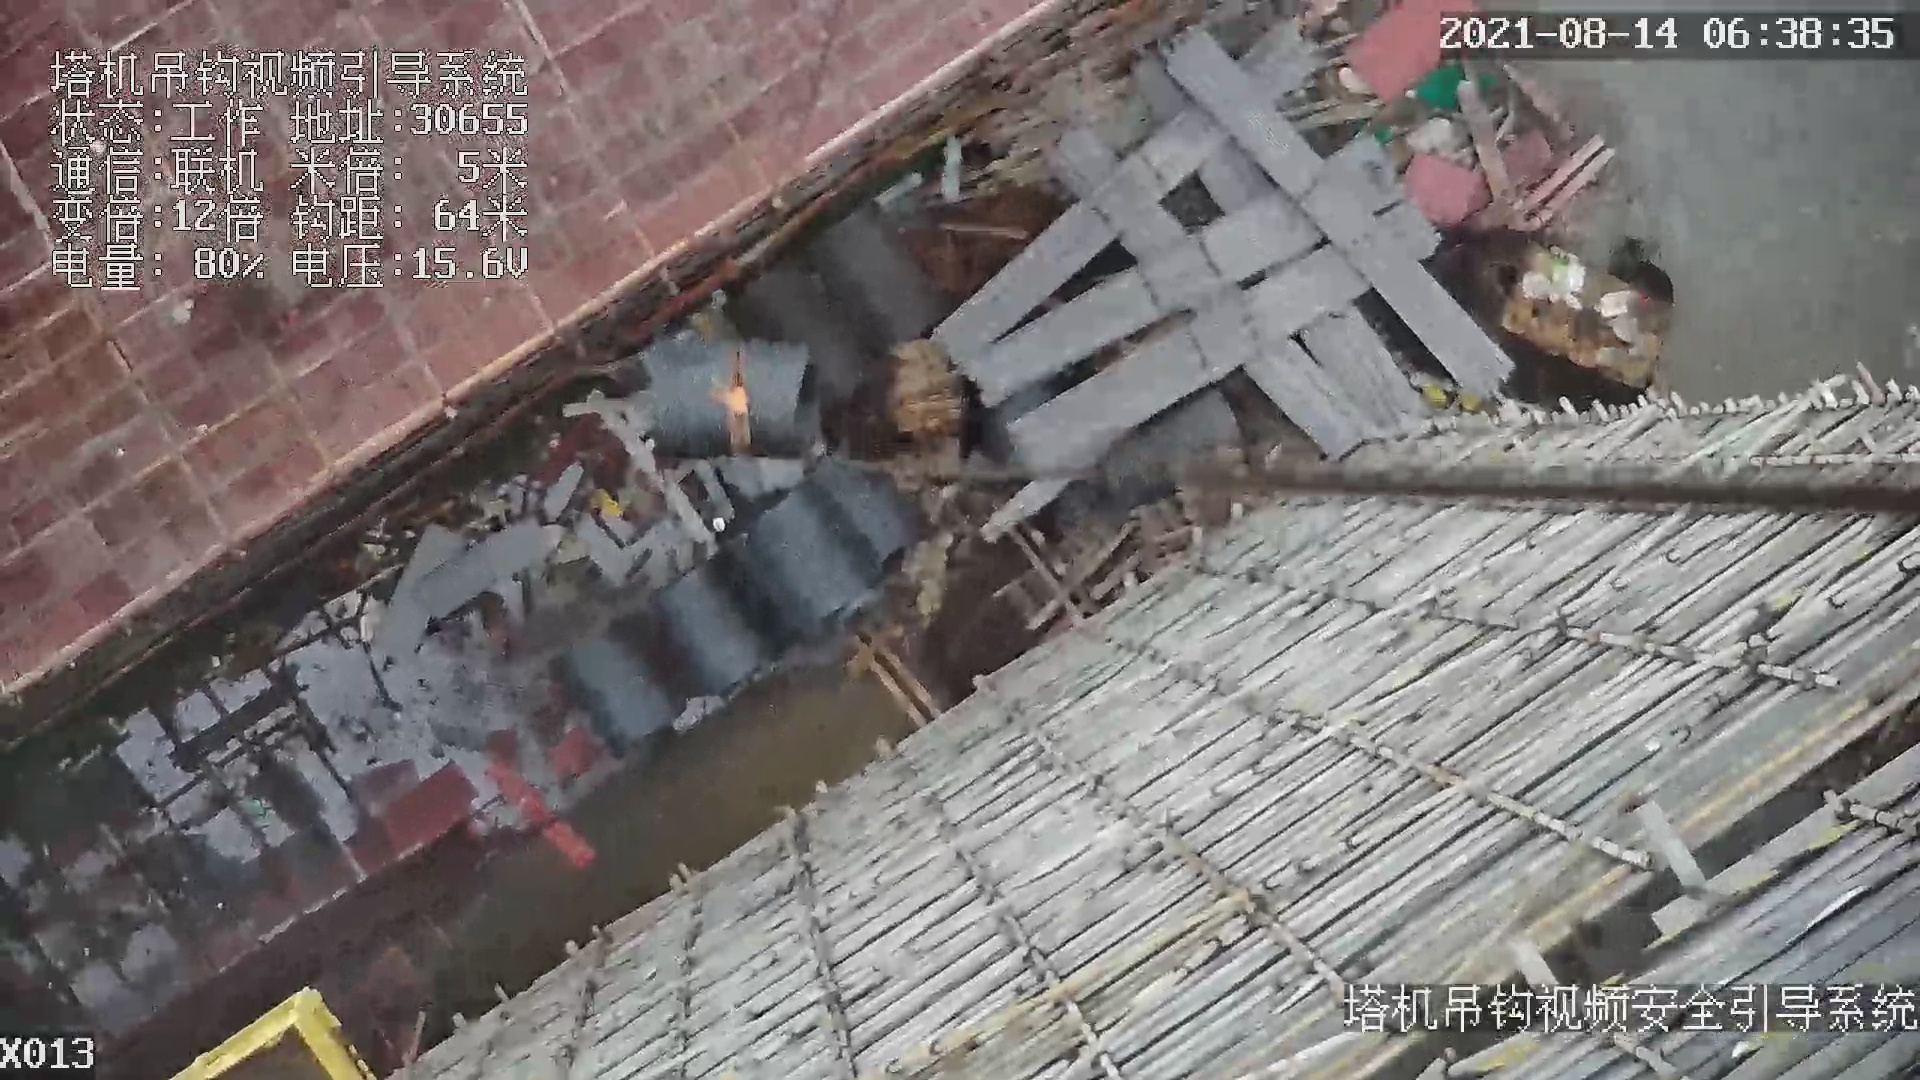hook: (713, 334, 764, 454)
